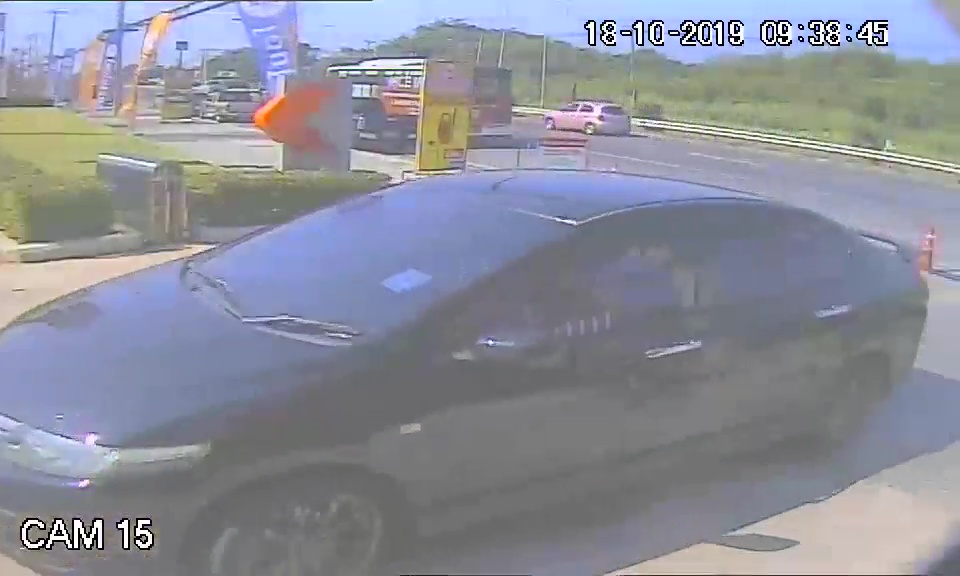sedan: (10, 171, 920, 537)
